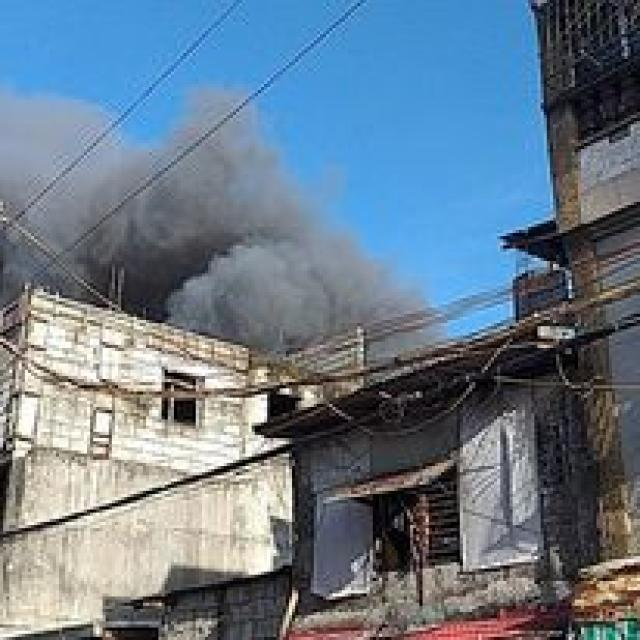Smoke: (55, 95, 432, 371)
